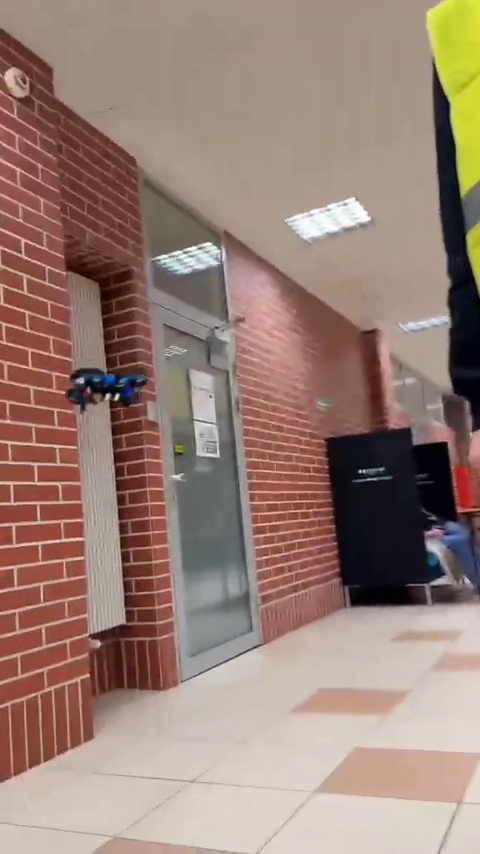drone: (56, 363, 158, 412)
